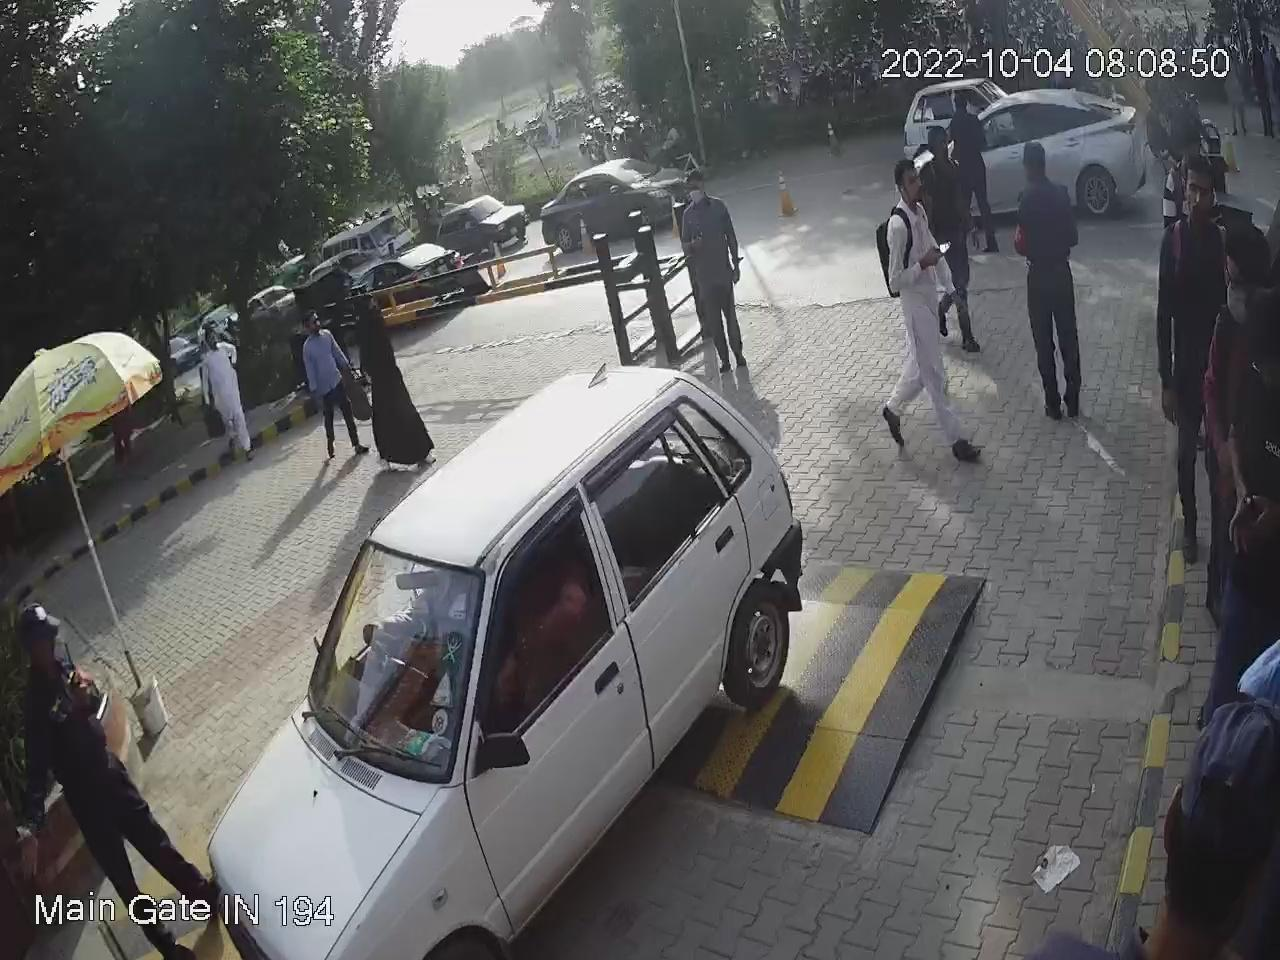windshield: (295, 530, 486, 808)
